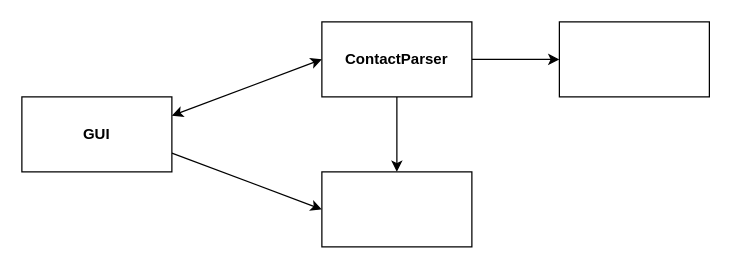
This 731x269 diagram has some shape labels left out. Here are the shapes that lost their labels. From the top down, the centre of each, then its label:
At point 633,59: "Datenbank".
At point 396,209: "Contact".
